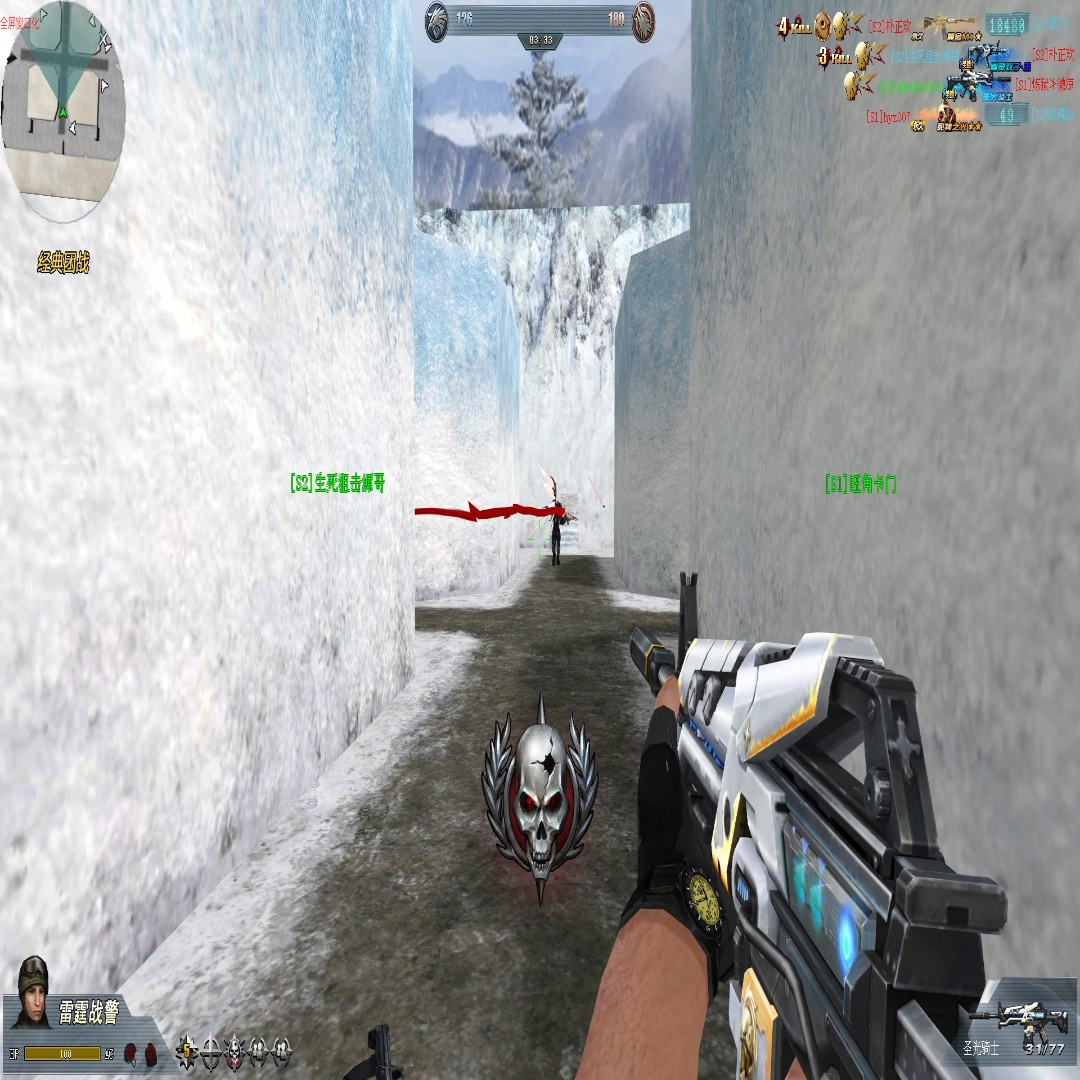t: (550, 502, 565, 565)
